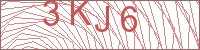3: (42, 1, 60, 27)
6: (120, 5, 140, 33)
J: (93, 5, 111, 32)
K: (70, 1, 91, 26)
